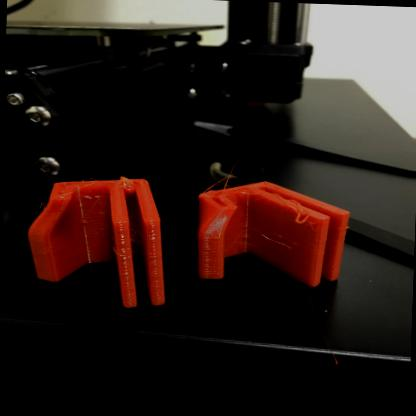fail: (230, 226, 299, 255), (126, 207, 147, 251)
